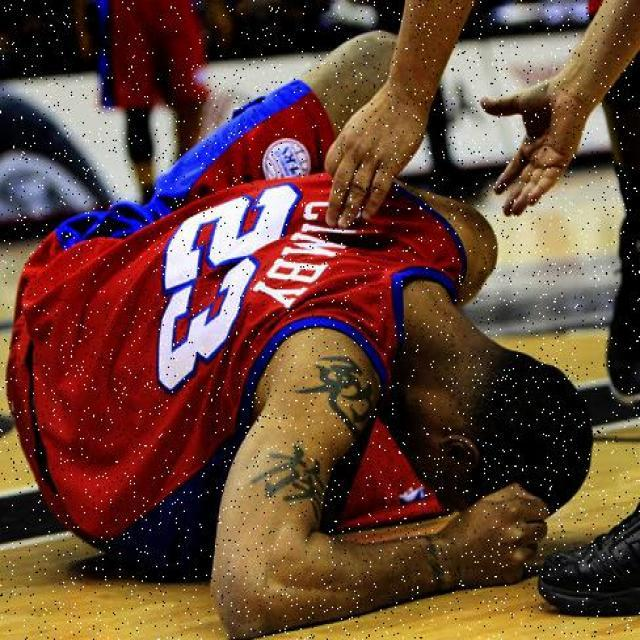fall: (38, 118, 568, 585)
